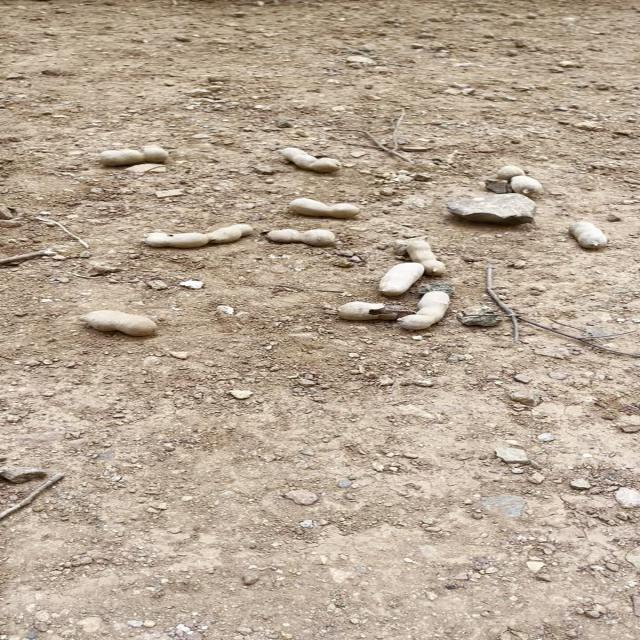tamarind: (132, 222, 250, 246), (76, 308, 158, 337), (265, 145, 348, 172), (398, 290, 446, 330), (400, 238, 449, 274), (564, 222, 618, 254), (283, 195, 359, 215), (96, 146, 169, 165), (380, 262, 420, 296), (265, 226, 336, 243), (497, 165, 540, 193)
